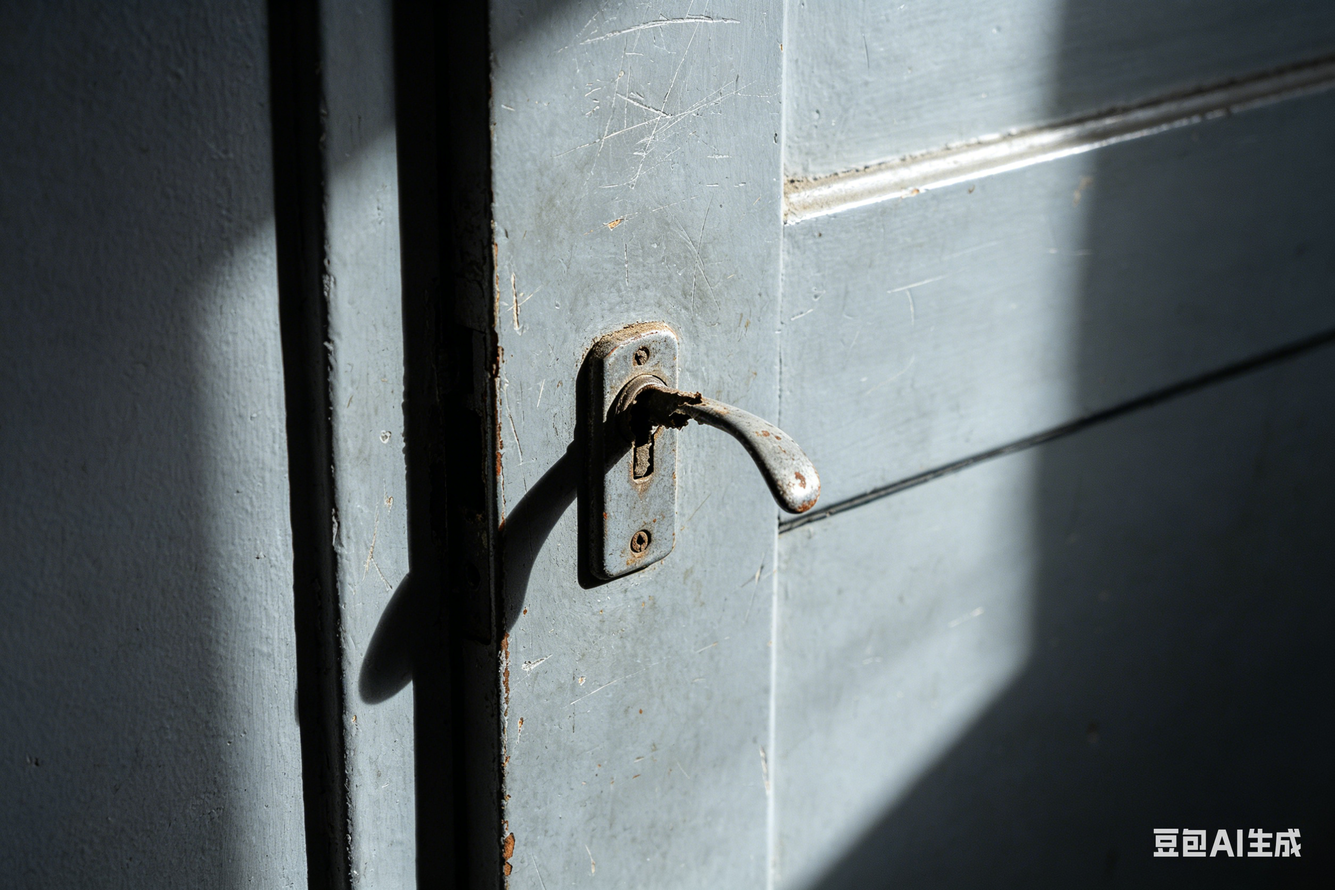BadLock: (596, 368, 753, 491)
